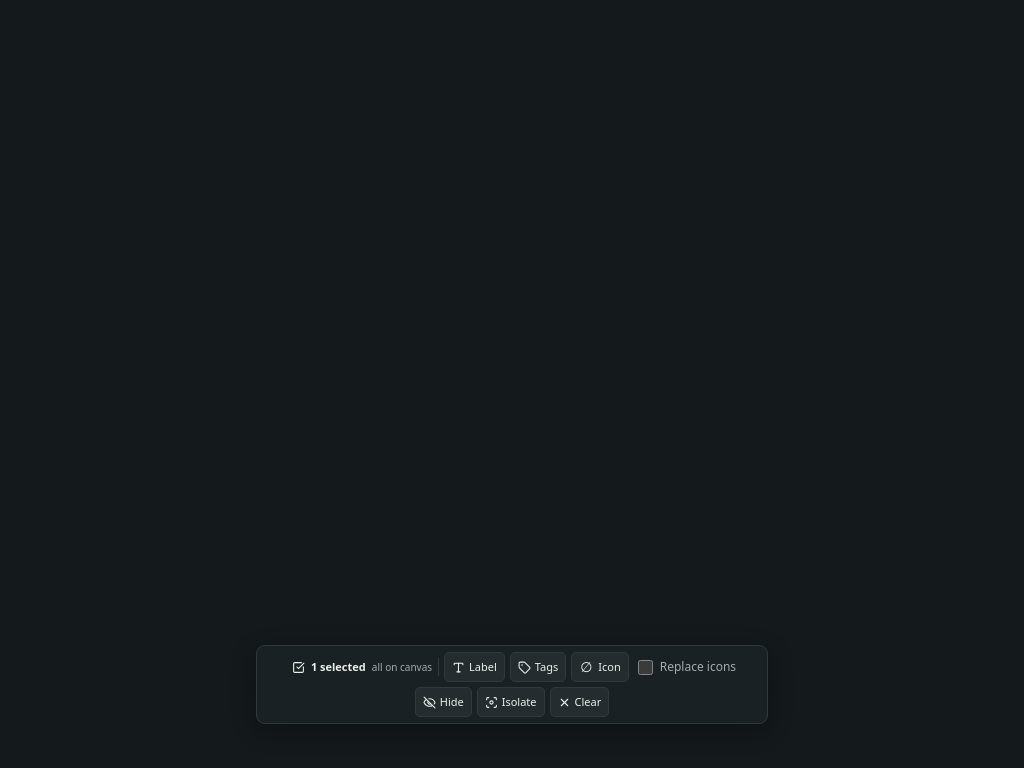
Scenario: uses one editor for label, icon and tags without capture events
The image size is (1024, 768).
Click the button "Label" at (474, 667), box left=444, top=652, right=505, bottom=682
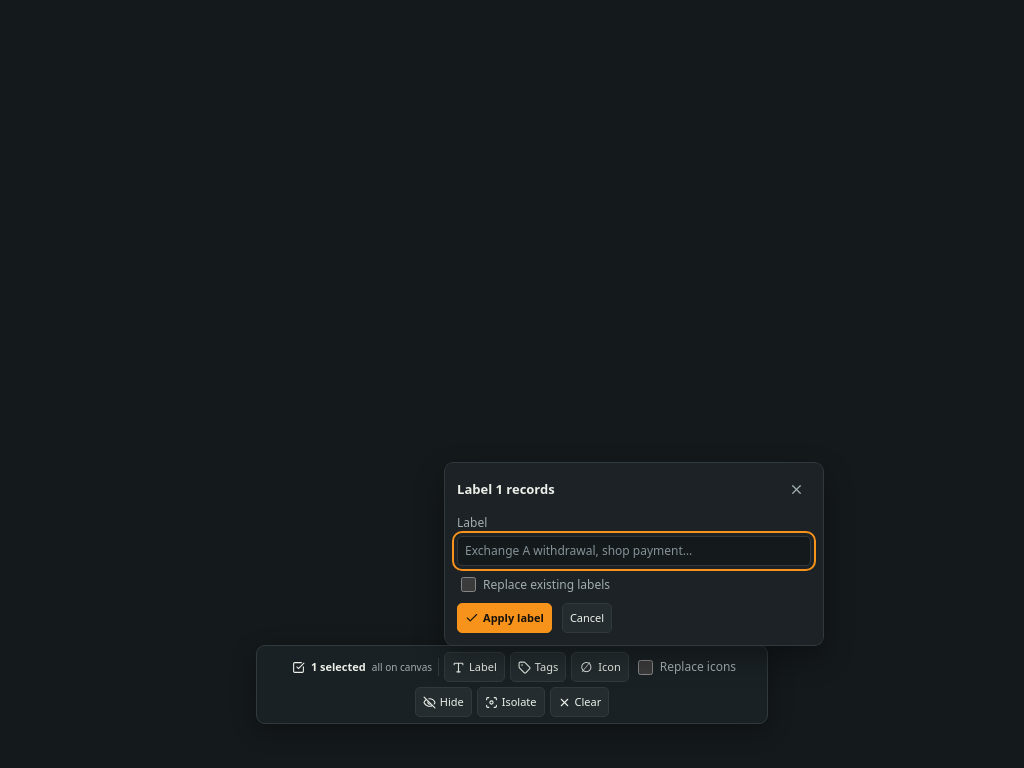
Now the number of dialogs is 1, box left=444, top=462, right=824, bottom=646
Click the button with aria-label "Set an icon on 1 selected entities: None" at (600, 667), box left=571, top=652, right=629, bottom=682
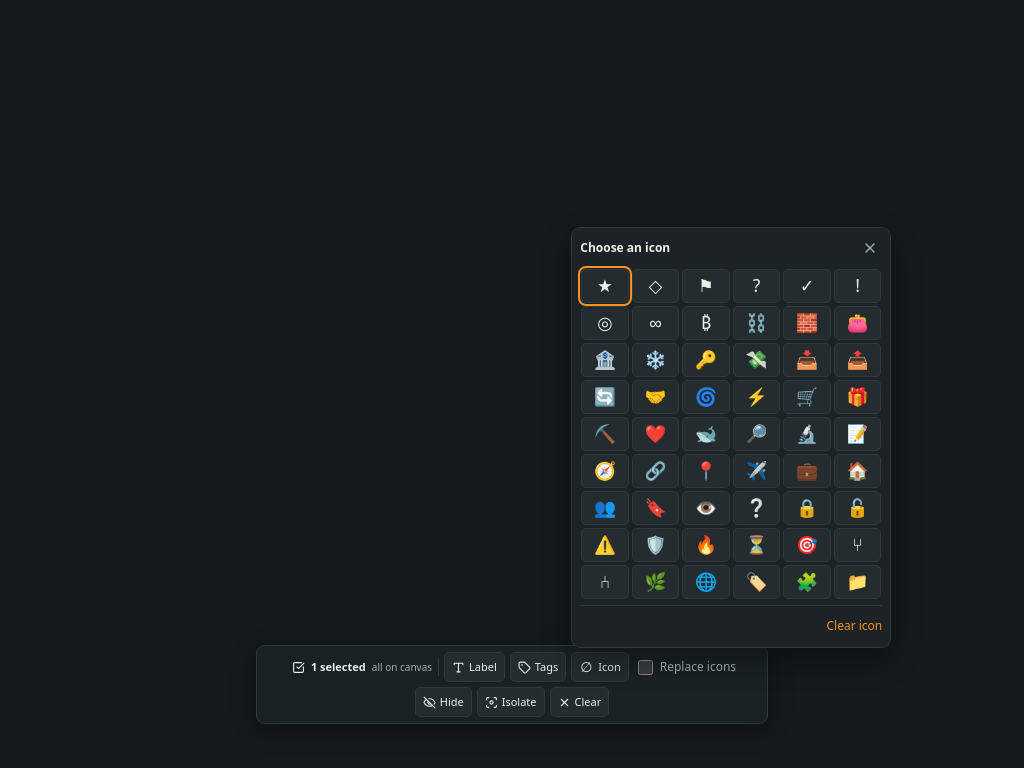
Now the number of dialogs is 1, box left=571, top=227, right=891, bottom=648
Click the button "Tags" at (538, 667), box left=510, top=652, right=566, bottom=682
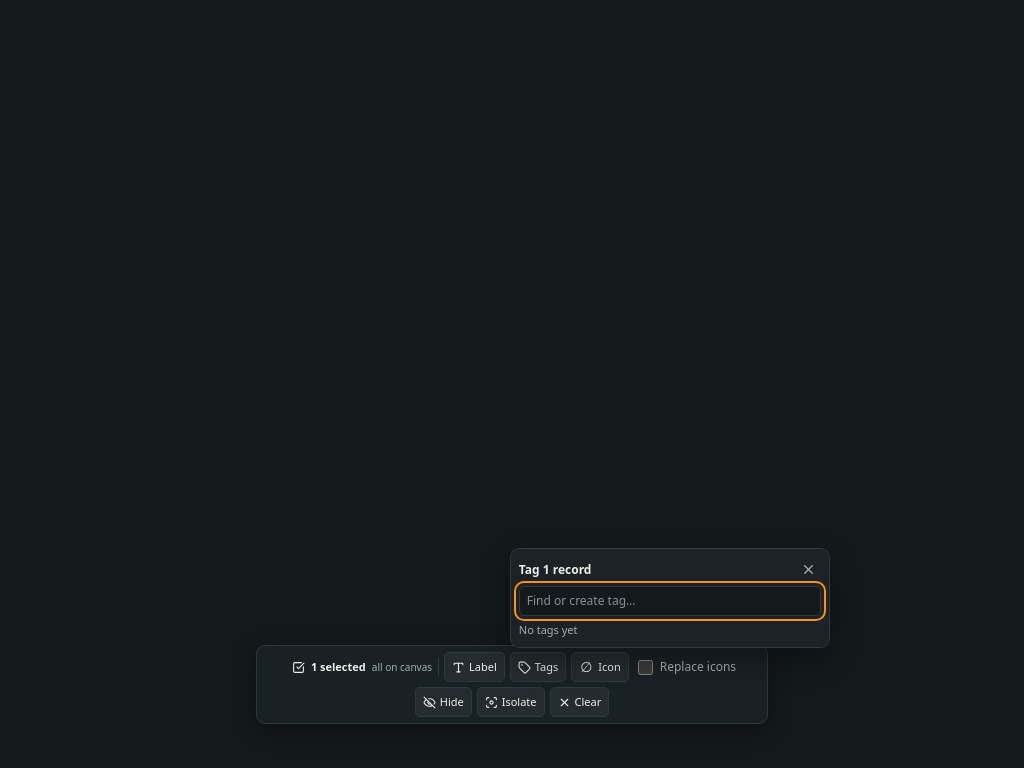
Now the number of dialogs is 1, box left=510, top=548, right=830, bottom=648
Click the button with aria-label "Set an icon on 1 selected entities: None" at (600, 667), box left=571, top=652, right=629, bottom=682
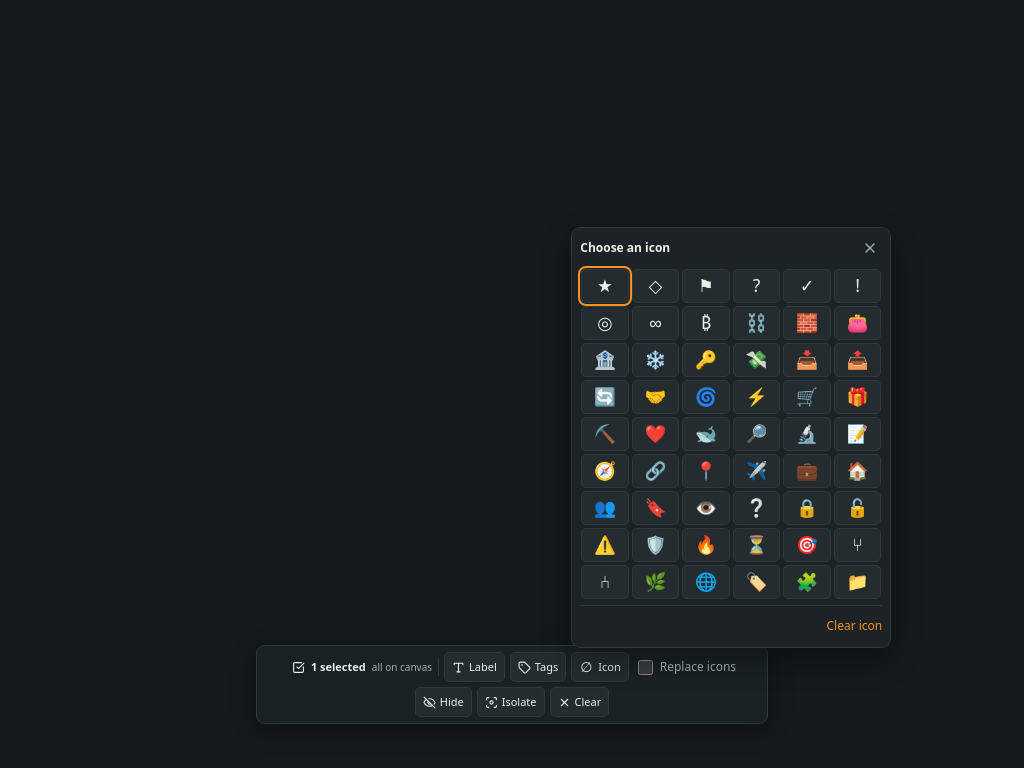
Now the number of dialogs is 1, box left=571, top=227, right=891, bottom=648
Click the button "Label" at (474, 667), box left=444, top=652, right=505, bottom=682
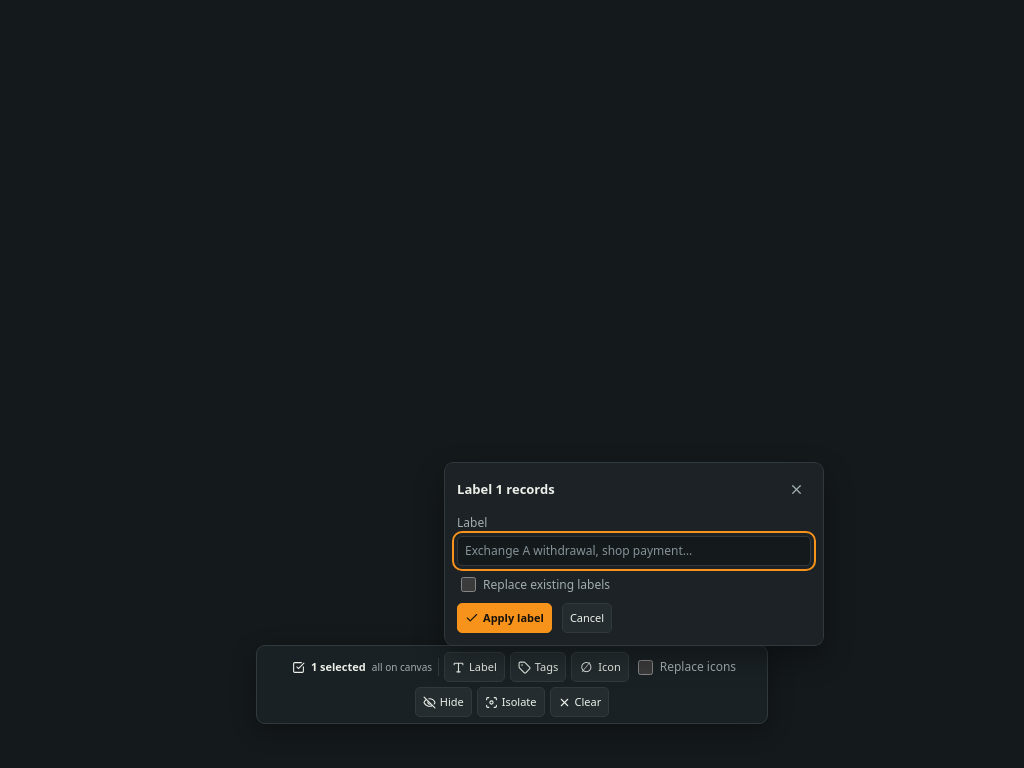
Now the number of dialogs is 1, box left=444, top=462, right=824, bottom=646
